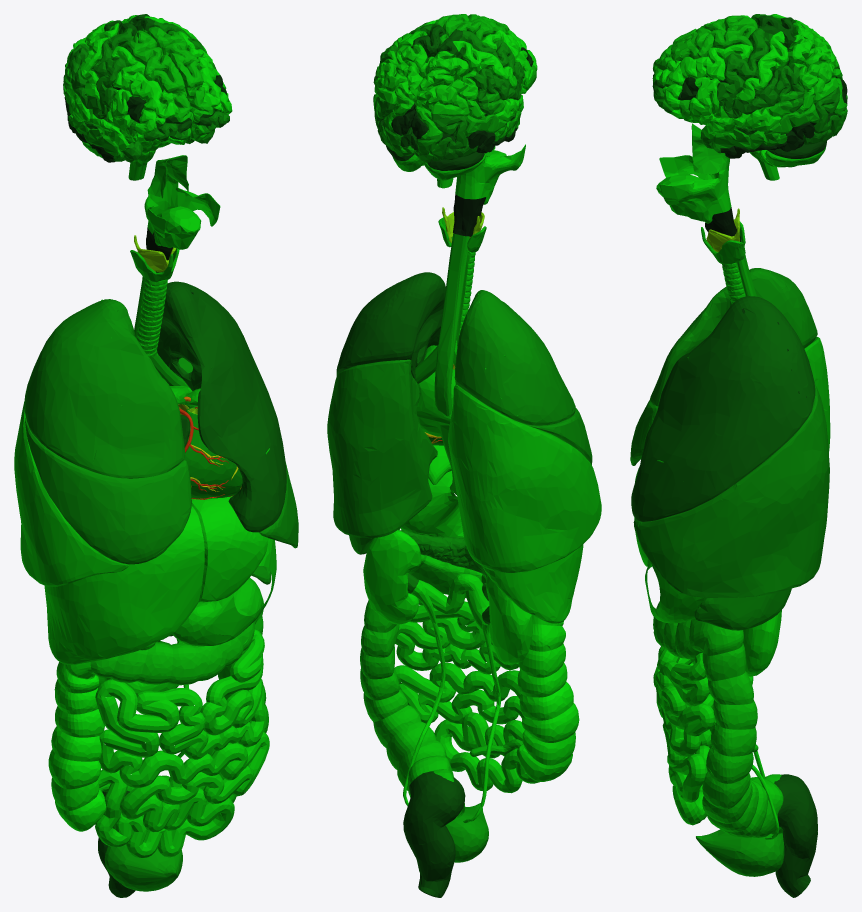
The model's file is organs.glb.
3 renders of one model, left to right at view 1: azimuth 30°, elevation 25°; view 2: azimuth 150°, elevation 25°; view 3: azimuth 270°, elevation 25°, orthographic. The views are drawn at different scales.
Parts seen in each view (by area): view 1: lungs|R, small_intestine|C, brain|C, liver|C, lungs|L, large_intestine|C, stomach|C, pharynx|C, bladder|C, right_ventricle|C, trachea|C, tongue|C (+2 smaller); view 2: lungs|R, lungs|L, large_intestine|C, brain|C, small_intestine|C, liver|C, kidneys|L, esophagus|C, kidneys|R, pharynx|C, stomach|C, bladder|C (+6 smaller); view 3: lungs|L, brain|C, large_intestine|C, small_intestine|C, lungs|R, pharynx|C, bladder|C, spleen|C, kidneys|L, stomach|C, cerebellum|C, tongue|C (+3 smaller).
Part boxes in pixels (x1,y1,x2,y2): lungs|R: [14, 299, 191, 586]; small_intestine|C: [95, 629, 269, 857]; brain|C: [63, 14, 232, 180]; liver|C: [44, 496, 268, 664]; lungs|L: [157, 281, 298, 548]; large_intestine|C: [48, 577, 268, 897]; stomach|C: [172, 503, 276, 646]; pharynx|C: [144, 155, 220, 272]; bladder|C: [104, 844, 182, 891]; right_ventricle|C: [184, 405, 242, 498]; trachea|C: [136, 278, 167, 357]; tongue|C: [154, 206, 201, 249]; lungs|R: [448, 290, 601, 572]; lungs|L: [327, 272, 445, 538]; large_intestine|C: [360, 554, 579, 897]; brain|C: [373, 14, 537, 188]; small_intestine|C: [395, 573, 539, 793]; liver|C: [428, 445, 583, 623]; kidneys|L: [363, 530, 421, 624]; esophagus|C: [434, 233, 469, 494]; kidneys|R: [482, 575, 532, 664]; pharynx|C: [453, 144, 525, 236]; stomach|C: [400, 471, 463, 537]; bladder|C: [445, 803, 488, 862]; lungs|L: [631, 296, 829, 597]; brain|C: [652, 14, 847, 180]; large_intestine|C: [653, 601, 817, 897]; small_intestine|C: [653, 646, 715, 825]; lungs|R: [630, 268, 830, 465]; pharynx|C: [659, 123, 741, 241]; bladder|C: [696, 829, 784, 876]; spleen|C: [694, 588, 791, 630]; kidneys|L: [743, 610, 781, 676]; stomach|C: [645, 563, 706, 623]; cerebellum|C: [759, 107, 826, 167]; tongue|C: [656, 174, 713, 223].
Bounding box in the file's own units: 0.261 × 0.8959 × 0.2015.
